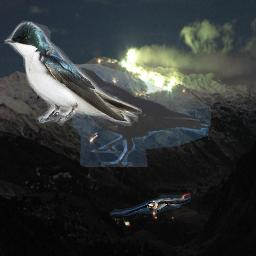Crow: (54, 64, 211, 167)
Swallow: (4, 20, 142, 126), (110, 195, 191, 216)
